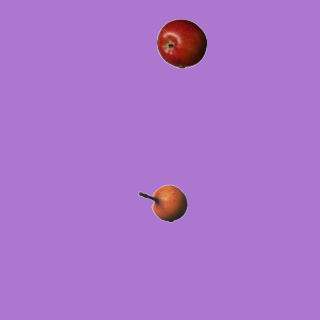Apple Braeburn: (156, 18, 206, 68)
Granadilla: (137, 178, 187, 228)
